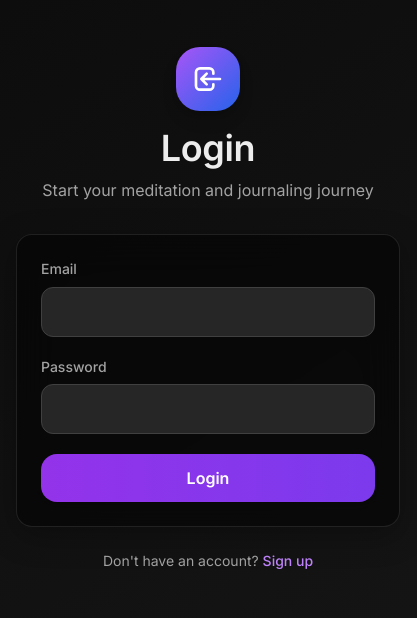
Test: AuthForm › バリデーション › 無効なメールで送信すると検証エラーが表示される
Type "invalid" into the field labelled "Email". click: coordinates (208, 312)
box: [41,287,375,337]
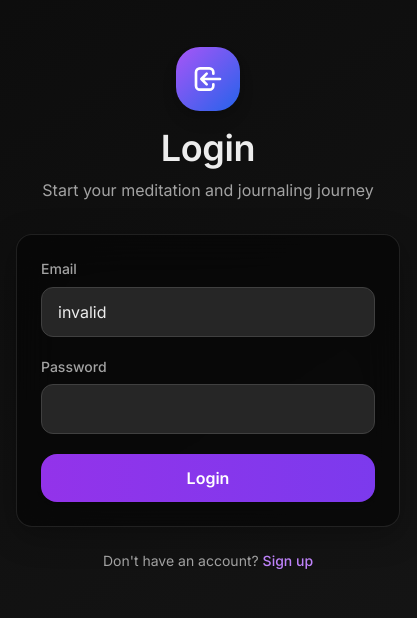
Type "password123" into the password field labelled "Password". click: coordinates (208, 409)
box: [41,384,375,434]
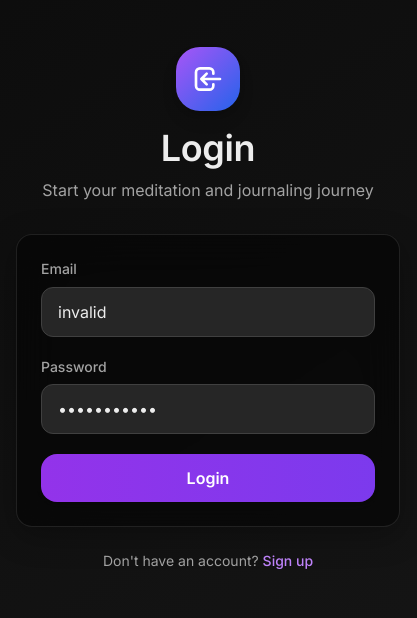
Click the button "Login". click: coordinates (208, 478)
box: [41,454,375,502]
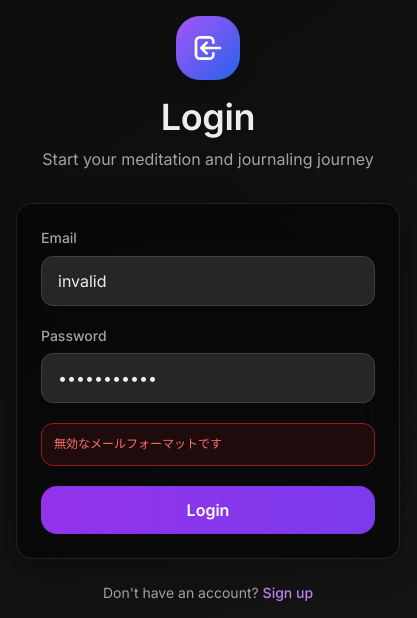
Expected: the text "無効なメールフォーマットです" is shown, [54,436,222,451]
